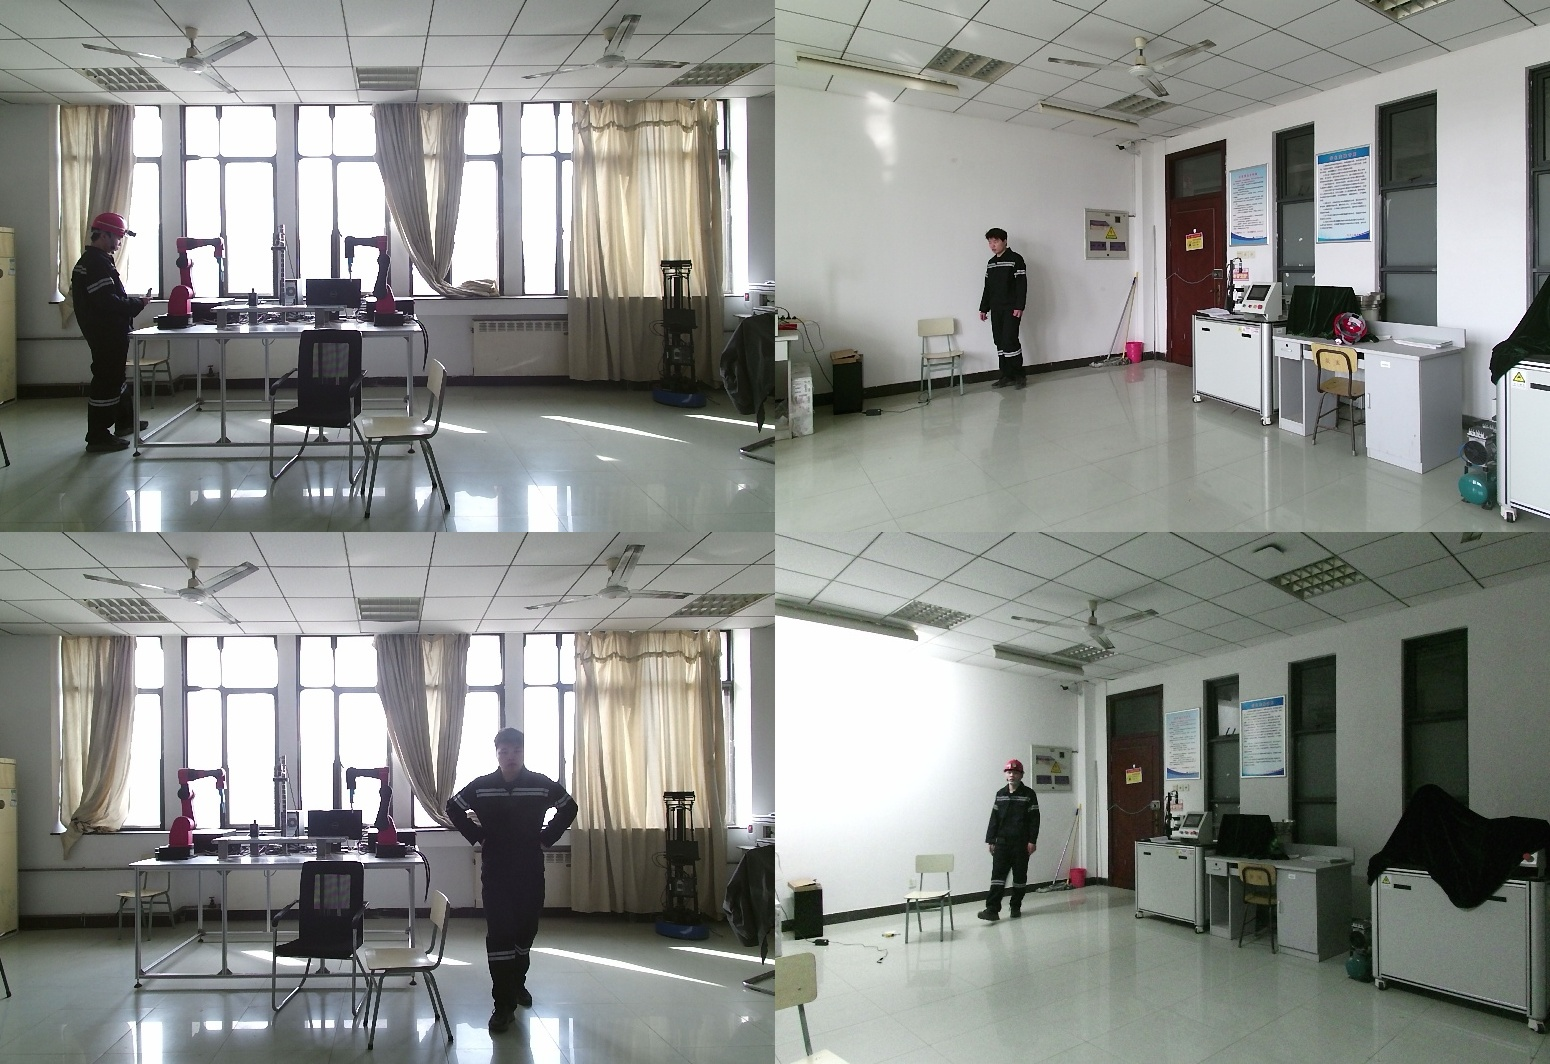person: (448, 729, 589, 1030), (69, 211, 153, 452), (976, 228, 1043, 394), (982, 760, 1043, 924)
